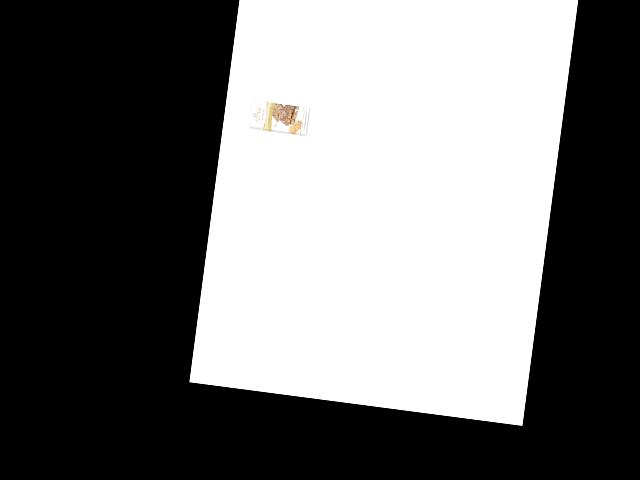chocolate: (245, 98, 312, 138)
